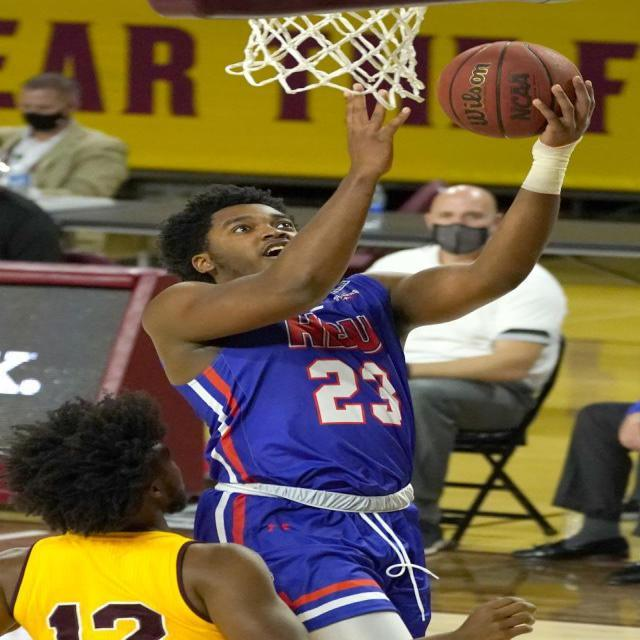Basketball: (438, 42, 583, 139)
hoop: (226, 1, 424, 110)
